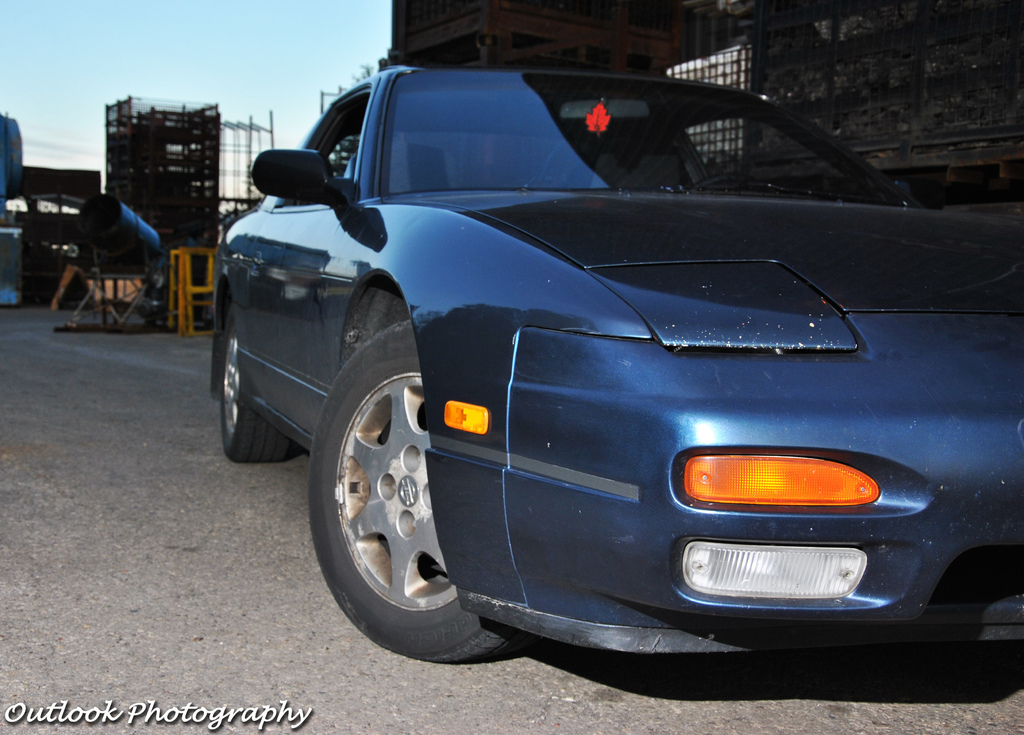person: (47, 191, 165, 314)
